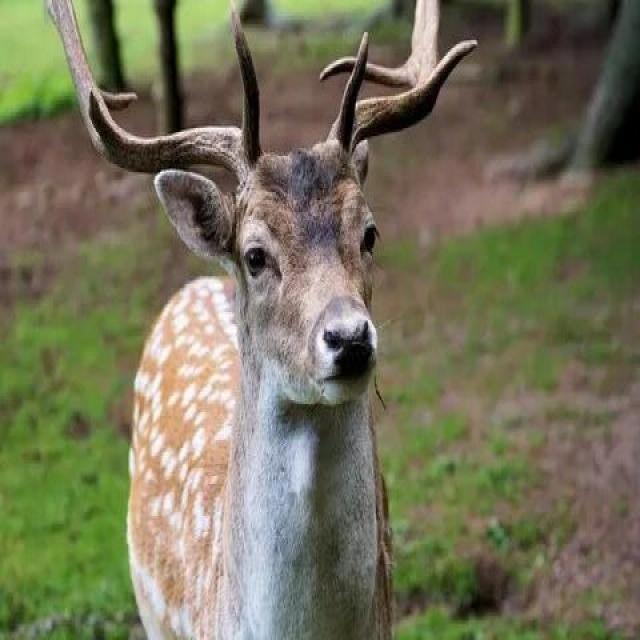deer: (97, 41, 472, 640)
